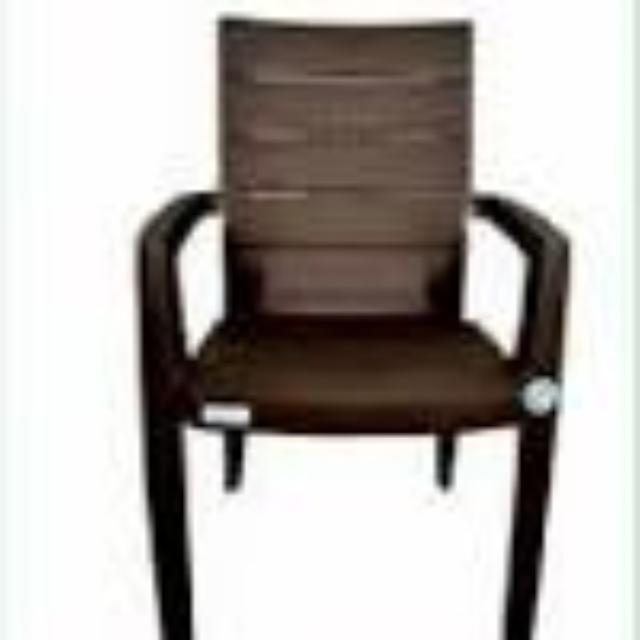obstacle: (94, 14, 588, 636)
